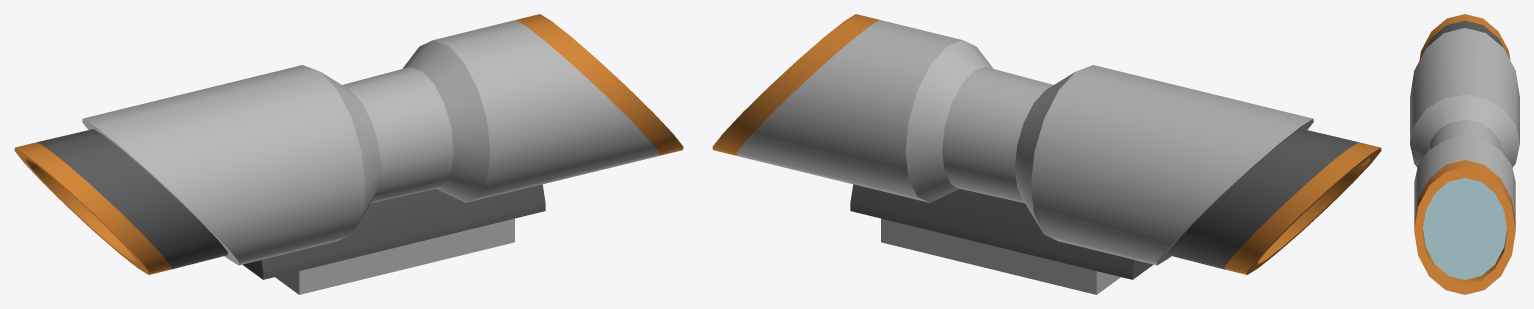
Rendered from Scope_1.glb.
The picture shows the model from 3 angles, left to right: view 1: azimuth 30°, elevation 25°; view 2: azimuth 150°, elevation 25°; view 3: azimuth 270°, elevation 25°; orthographic projection. The views are drawn at different scales.
Visible parts, largest first — view 1: Scope_1; view 2: Scope_1; view 3: Scope_1.
Part boxes in pixels (x1,y1,x2,y2): Scope_1: [14, 14, 683, 294]; Scope_1: [712, 14, 1381, 294]; Scope_1: [1410, 14, 1519, 294].
Bounding box in the file's own units: 0.5103 × 0.1544 × 0.1236.
